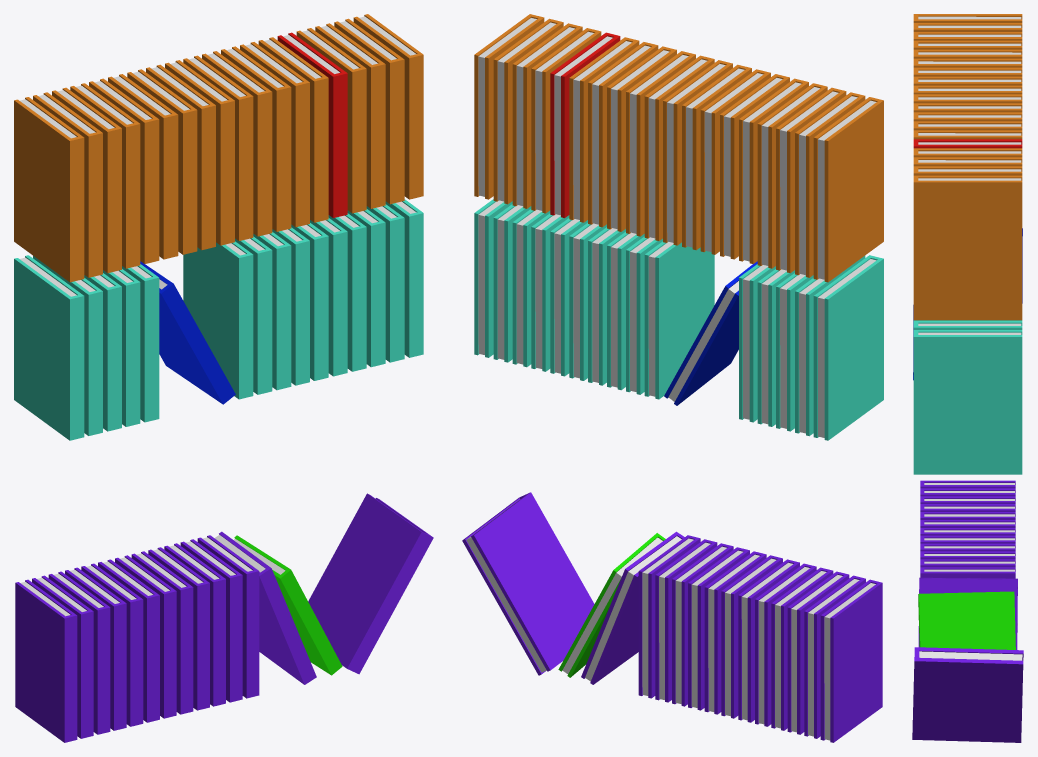
The model's file is Libros.fbx.
3 views of the same model, side by side, from view 1: azimuth 30°, elevation 25°; view 2: azimuth 150°, elevation 25°; view 3: azimuth 270°, elevation 25° (orthographic). The views are drawn at different scales.
Visible parts, largest first — view 1: Libros 1 estanteria, Libros 2 estanteria, Libros 4 estanteria, Libro diferente.001, Libro diferente, Libro diferente.002; view 2: Libros 1 estanteria, Libros 2 estanteria, Libros 4 estanteria, Libro diferente.001, Libro diferente, Libro diferente.002; view 3: Libros 1 estanteria, Libros 4 estanteria, Libros 2 estanteria, Libro diferente.002, Libro diferente.
Part boxes in pixels (x1,y1,x2,y2): Libros 1 estanteria: (14, 14, 423, 282); Libros 2 estanteria: (14, 199, 423, 440); Libros 4 estanteria: (15, 493, 433, 742); Libro diferente.001: (140, 261, 235, 404); Libro diferente: (277, 32, 347, 217); Libro diferente.002: (234, 535, 342, 675); Libros 1 estanteria: (474, 14, 883, 282); Libros 2 estanteria: (474, 199, 883, 440); Libros 4 estanteria: (462, 492, 882, 742); Libro diferente.001: (664, 261, 757, 405); Libro diferente: (550, 32, 620, 218); Libro diferente.002: (558, 533, 665, 677); Libros 1 estanteria: (913, 14, 1022, 320); Libros 4 estanteria: (912, 480, 1023, 742); Libros 2 estanteria: (913, 320, 1022, 474); Libro diferente.002: (918, 591, 1015, 649); Libro diferente: (913, 139, 1022, 148).
Bounding box in the file's own units: 76.2 × 120 × 20.5.
